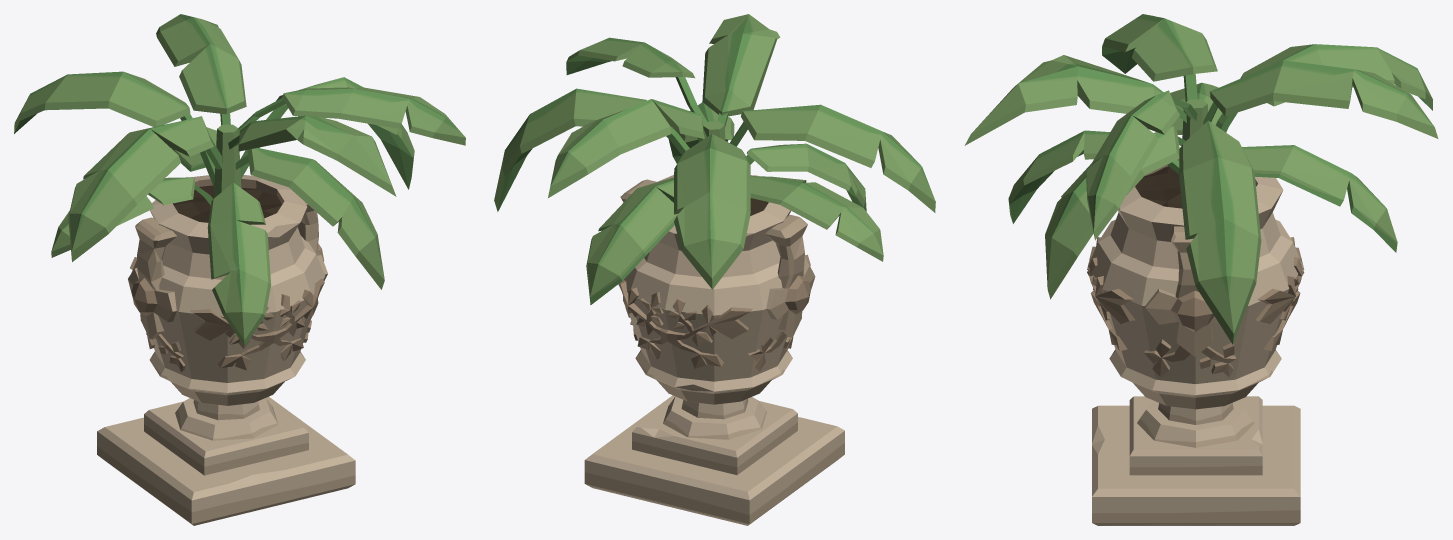
File: SM_Prop_Pot_Plants_01.obj
The picture shows the model from 3 angles, left to right: view 1: azimuth 30°, elevation 25°; view 2: azimuth 150°, elevation 25°; view 3: azimuth 270°, elevation 25°; orthographic projection. The views are drawn at different scales.
Parts seen in each view (by area): view 1: SM_Prop_Pot_Plants_01_0; view 2: SM_Prop_Pot_Plants_01_0; view 3: SM_Prop_Pot_Plants_01_0.
Boxes of the visible parts, x1,y1,x2,y2 form: SM_Prop_Pot_Plants_01_0: (14,14,465,525); SM_Prop_Pot_Plants_01_0: (494,14,935,525); SM_Prop_Pot_Plants_01_0: (964,14,1438,525).
Size of the model in its own units: 1.52 by 1.48 by 1.46.
Materials: 1 (1 with a texture image).
